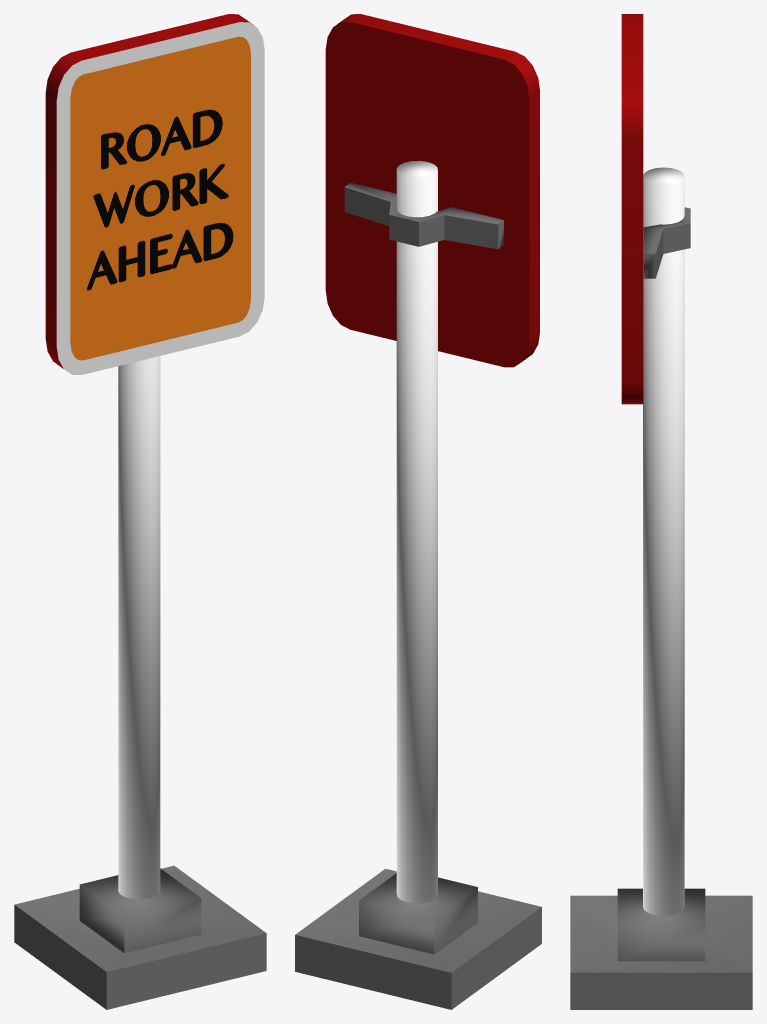
File: Sign_3.fbx
3 views of the same model, side by side, from view 1: azimuth 30°, elevation 25°; view 2: azimuth 150°, elevation 25°; view 3: azimuth 270°, elevation 25° (orthographic). The views are drawn at different scales.
Visible parts, largest first — view 1: Sign_3; view 2: Sign_3; view 3: Sign_3.
Boxes of the visible parts, x1,y1,x2,y2 form: Sign_3: (14, 14, 266, 1009); Sign_3: (295, 14, 541, 1009); Sign_3: (570, 14, 752, 1009).
Bounding box in the file's own units: 0.762 × 0.5853 × 3.26.
